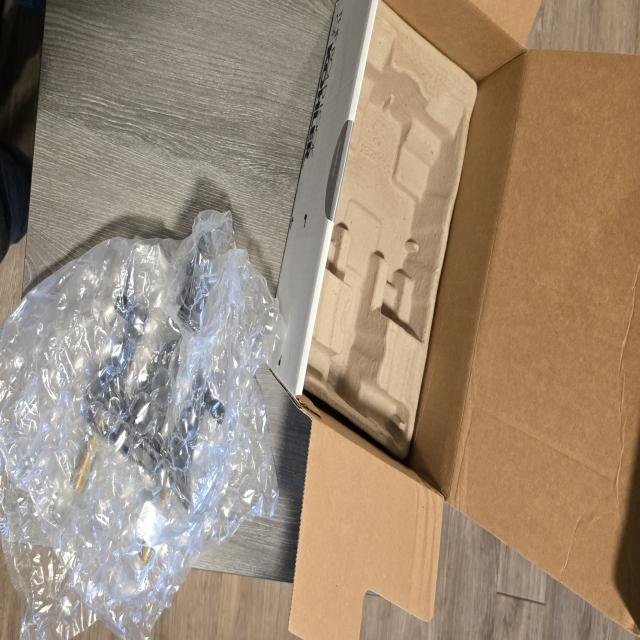9c: (0, 211, 282, 640)
